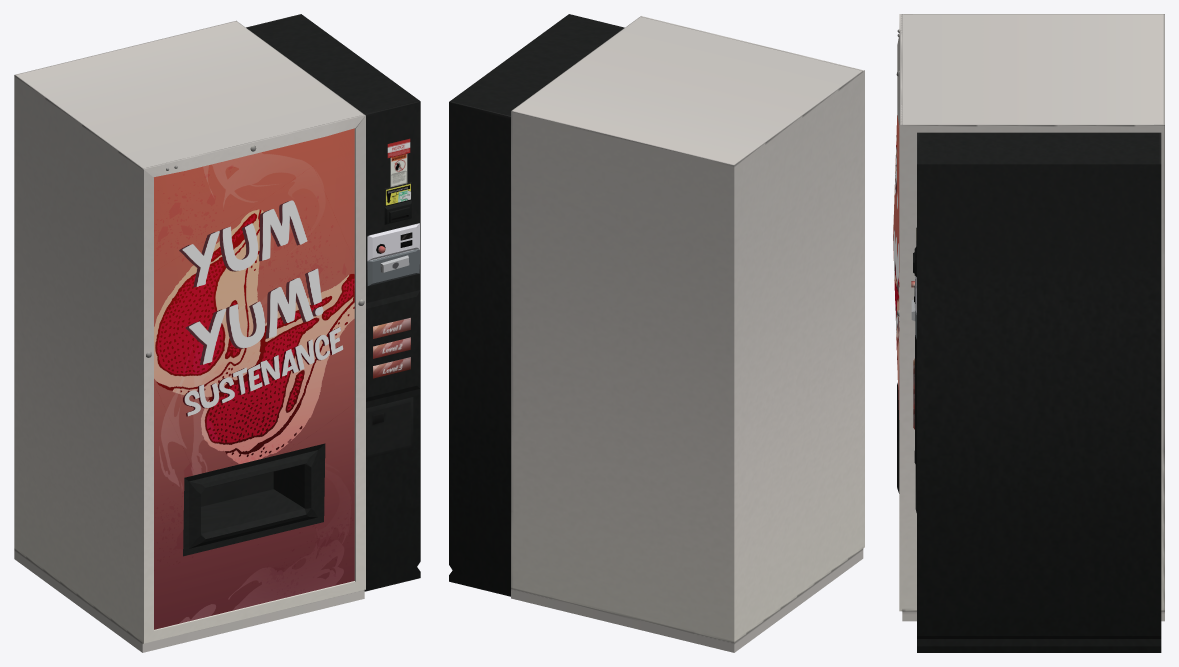
The model's file is VendingMachine-Hunger.fbx.
3 views of the same model, side by side, from view 1: azimuth 30°, elevation 25°; view 2: azimuth 150°, elevation 25°; view 3: azimuth 270°, elevation 25° (orthographic). The views are drawn at different scales.
Visible parts, largest first — view 1: VendingMachine-Hunger; view 2: VendingMachine-Hunger; view 3: VendingMachine-Hunger.
Boxes of the visible parts, box(x1,y1,x2,y2) form: VendingMachine-Hunger: box(14, 14, 420, 652); VendingMachine-Hunger: box(449, 14, 864, 652); VendingMachine-Hunger: box(893, 14, 1164, 652).
Bounding box in the file's own units: 257 × 417 × 207.
Materials: 1 (1 with a texture image).
